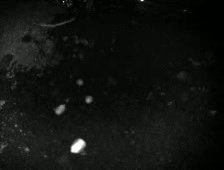corn: (68, 136, 87, 155), (52, 103, 68, 117), (83, 92, 96, 106), (74, 76, 86, 88)
